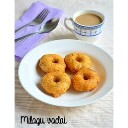vada: (42, 71, 72, 96), (73, 70, 100, 90), (40, 53, 66, 73), (66, 52, 92, 70)
